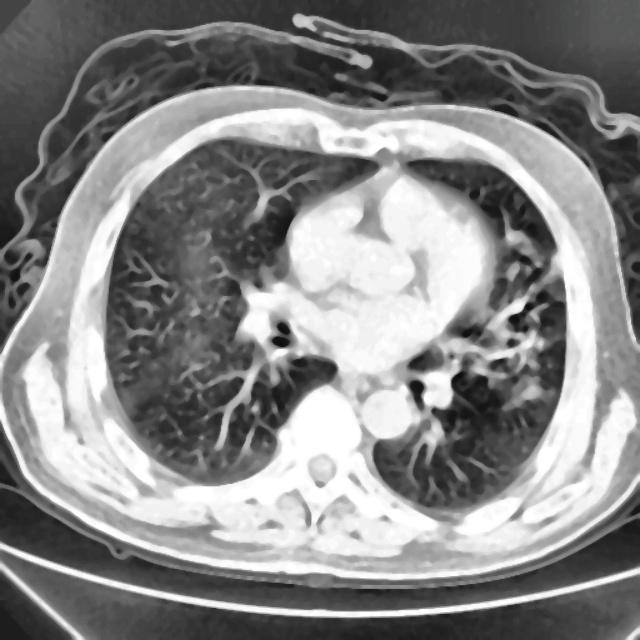covid: (0, 17, 639, 591)
